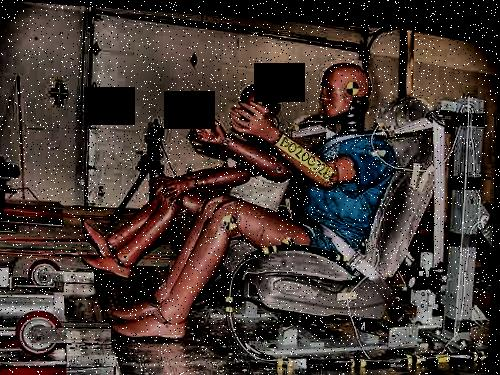seatbelt: (304, 98, 455, 233)
